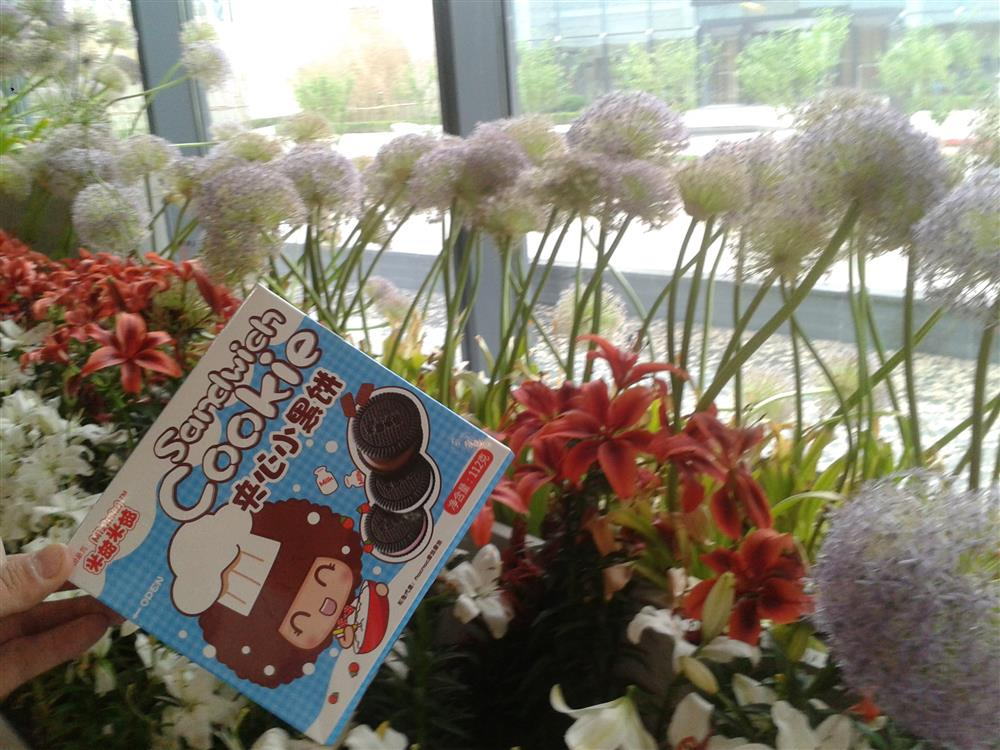mizimizi: (53, 266, 519, 734)
